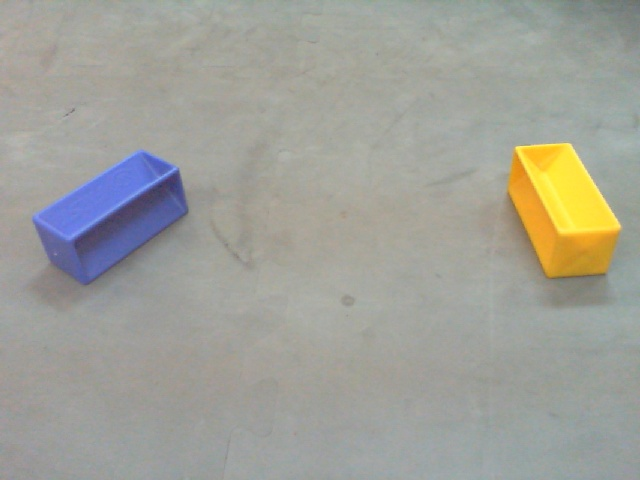BlueSample: (29, 149, 194, 295)
YellowSample: (505, 138, 625, 286)
